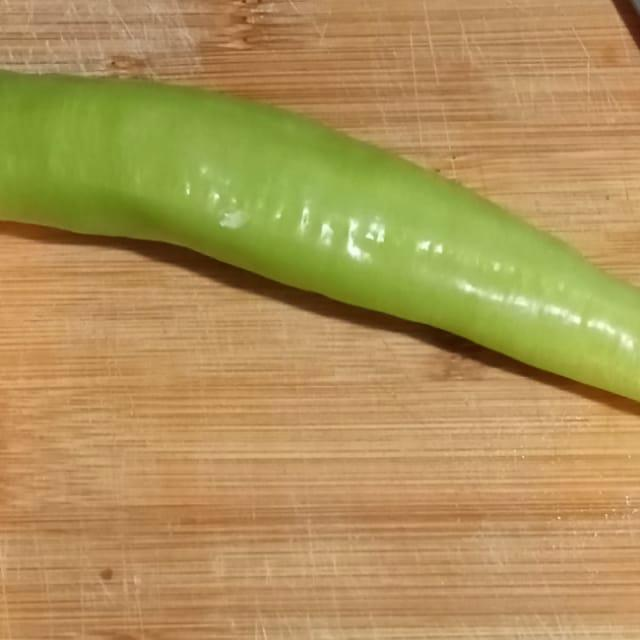chili_pepper: (0, 29, 640, 476)
